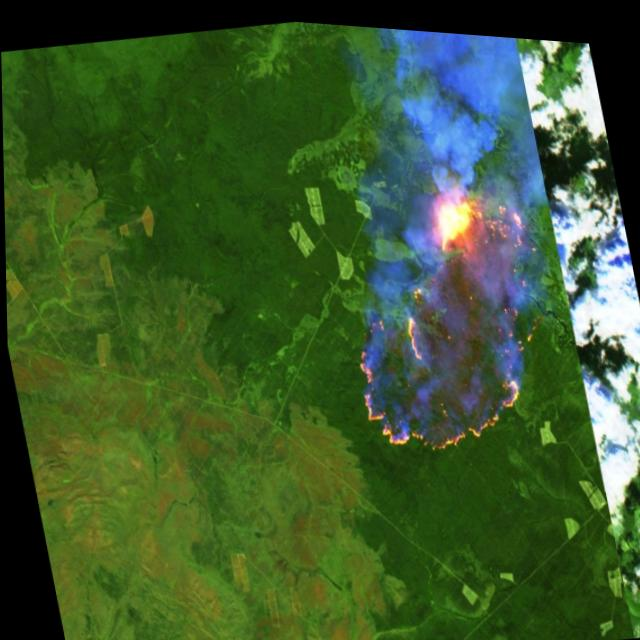fire: (312, 157, 572, 474)
